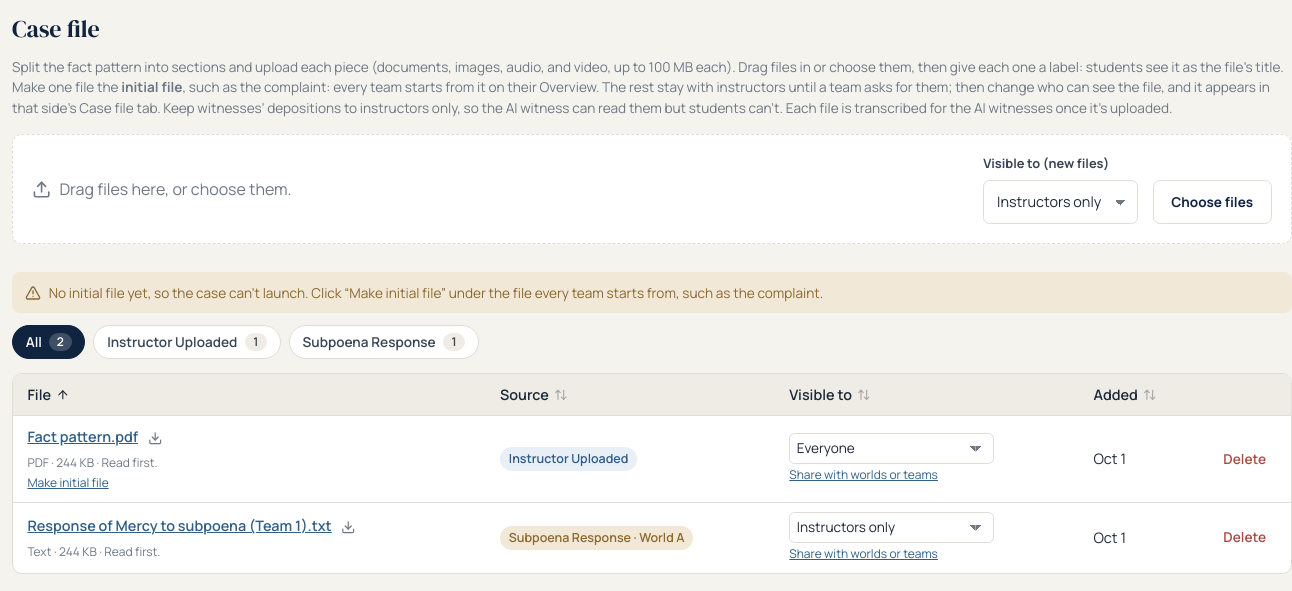
Test case: MaterialsSection › filters the files by source
Expected: the cell "Subpoena Response · World A" is shown, [486, 502, 775, 573]
Click the button "Subpoena Response 1".
click(384, 342)  # box [289, 325, 479, 359]
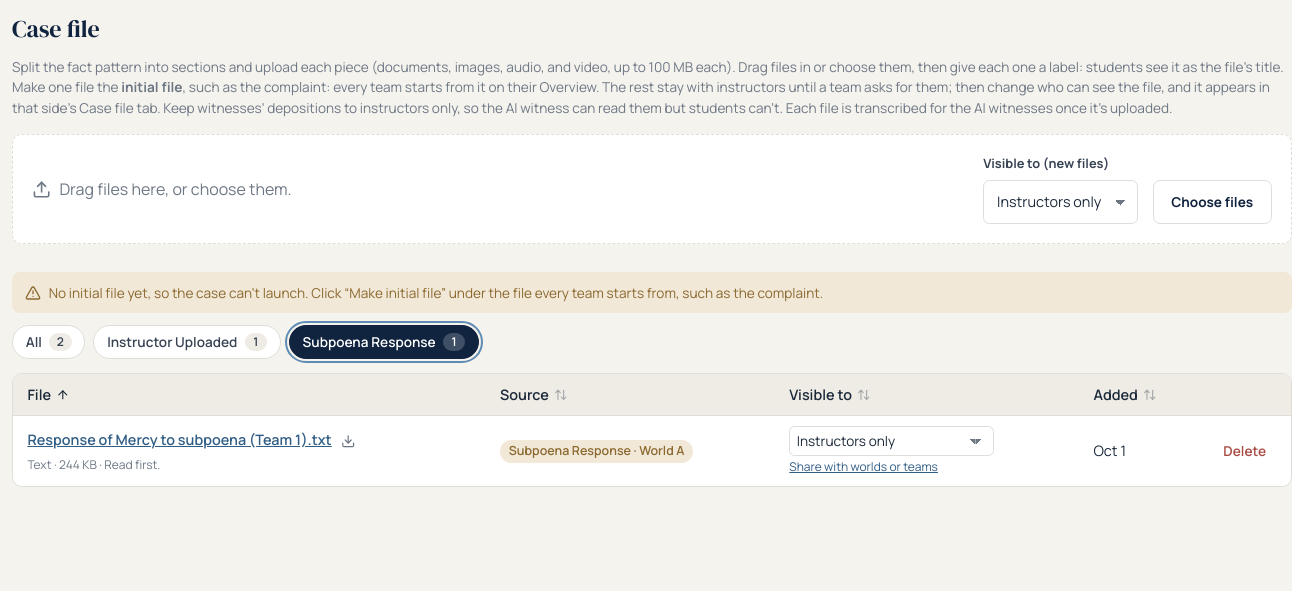
Expected: the button "Response of Mercy to subpoena (Team 1).txt" is shown, [27, 429, 332, 450]
Expected: the button "Fact pattern.pdf" is gone
Click the button "Instructor Uploaded 1".
click(187, 342)  # box [93, 325, 281, 359]
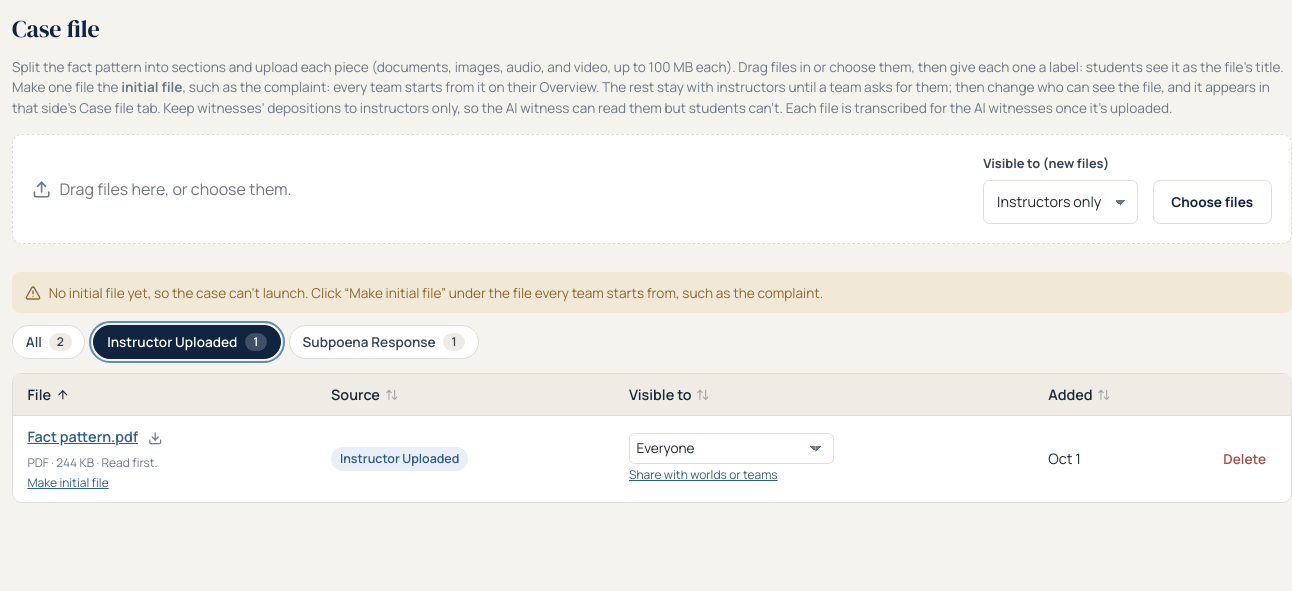
Expected: the button "Fact pattern.pdf" is shown, [27, 426, 138, 448]
Expected: the button "Response of Mercy" is gone
